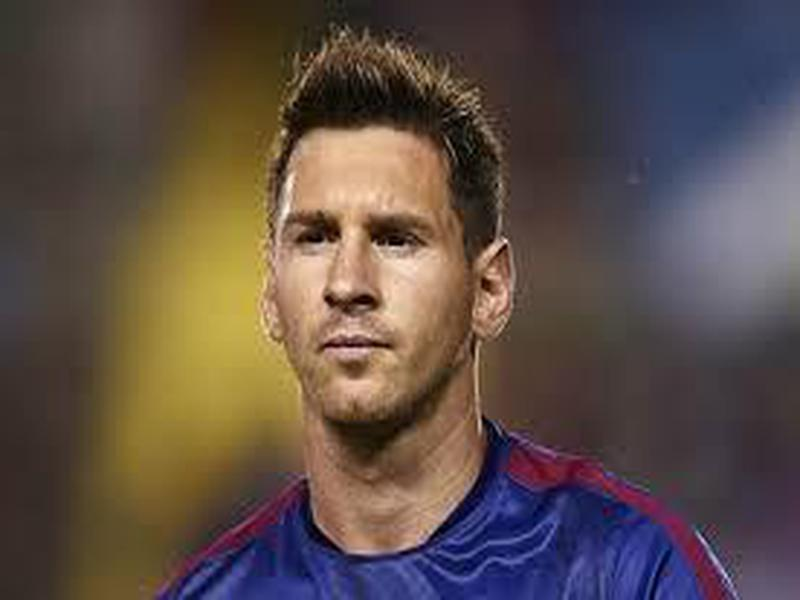without_mask: (272, 146, 466, 429)
